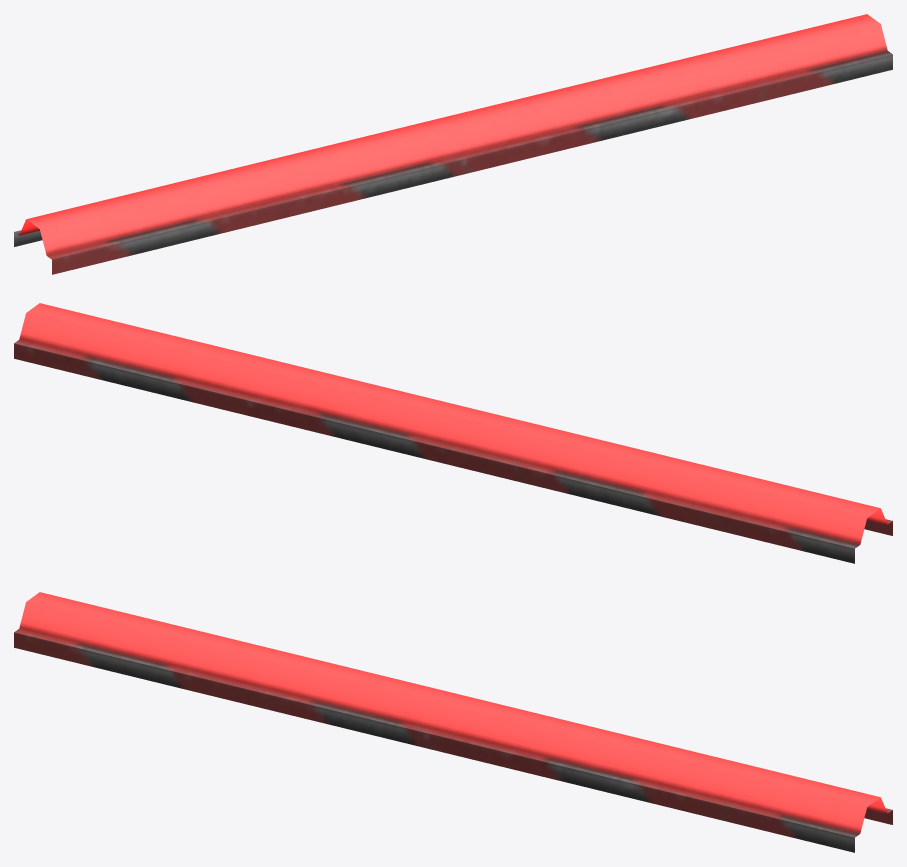
Rendered from Way_OddStr.fbx.
3 renders of one model, top to bottom at view 1: azimuth 30°, elevation 25°; view 2: azimuth 150°, elevation 25°; view 3: azimuth 330°, elevation 25°, orthographic.
Parts seen in each view (by area): view 1: Way_OddStr; view 2: Way_OddStr; view 3: Way_OddStr.
Part boxes in pixels (x1,y1,x2,y2): Way_OddStr: (14, 14, 892, 274); Way_OddStr: (14, 303, 892, 563); Way_OddStr: (14, 592, 892, 852).
Bounding box in the file's own units: 3 × 0.1253 × 0.2342.
